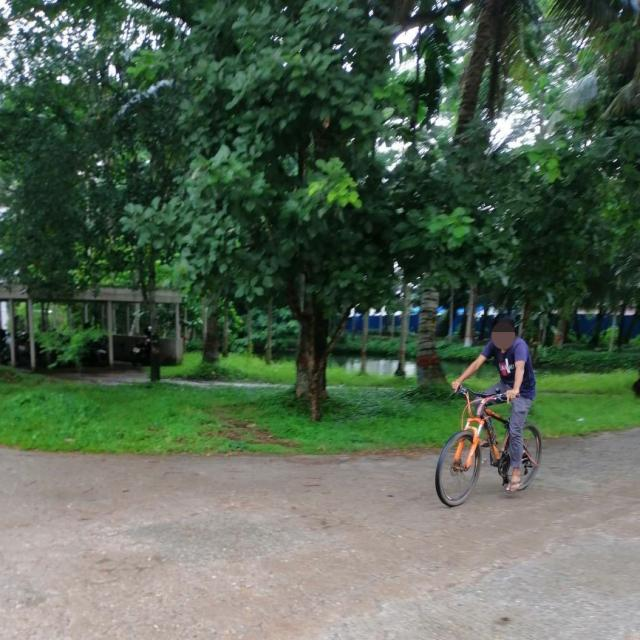Bicycle: (425, 376, 551, 509)
